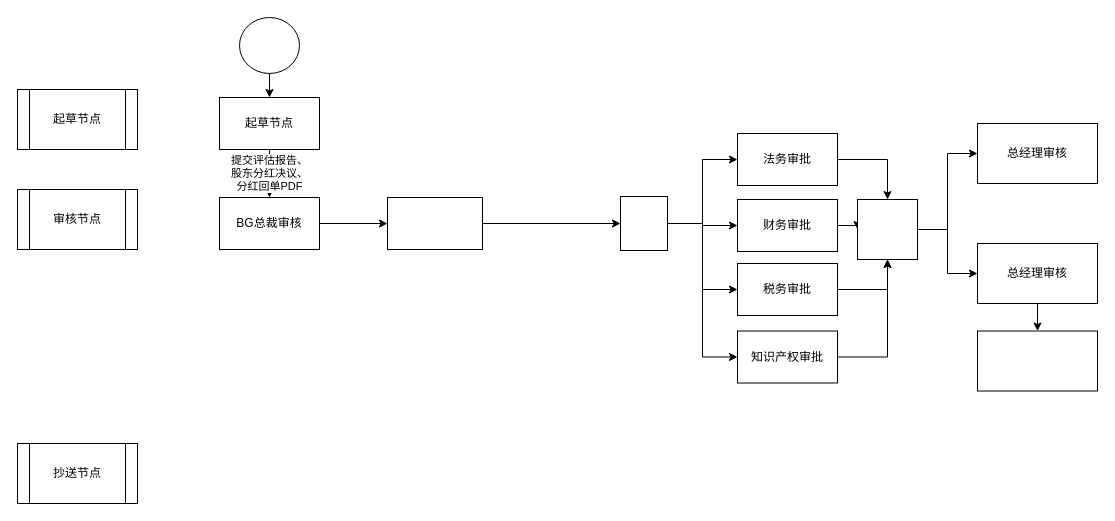
The diagram is 1115 pixels wide and 521 high, and some of its shapes have lost their labels. Here are the shapes that lost their labels. From the top down, the centre of each, then its label:
At (x=269, y=45): "开始".
At (x=434, y=223): "首席投资官审核".
At (x=644, y=223): "董事长办公室审核".
At (x=887, y=229): "下一审核流程".
At (x=1037, y=360): "董事长审核".
